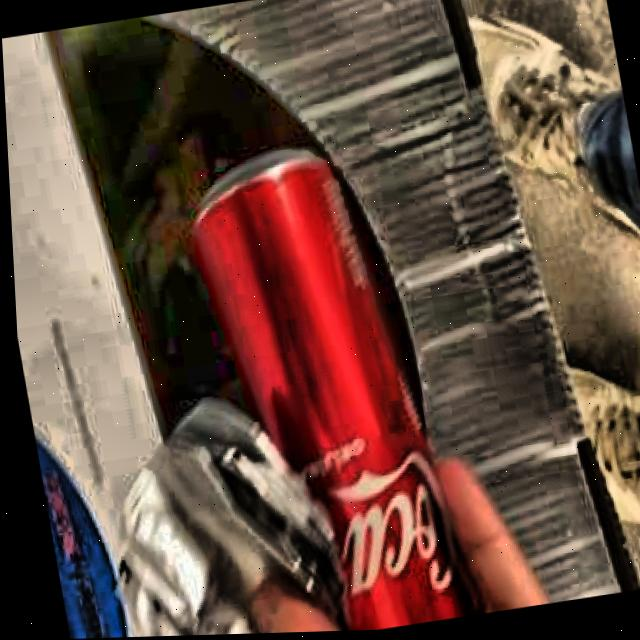metal: (191, 151, 477, 633)
